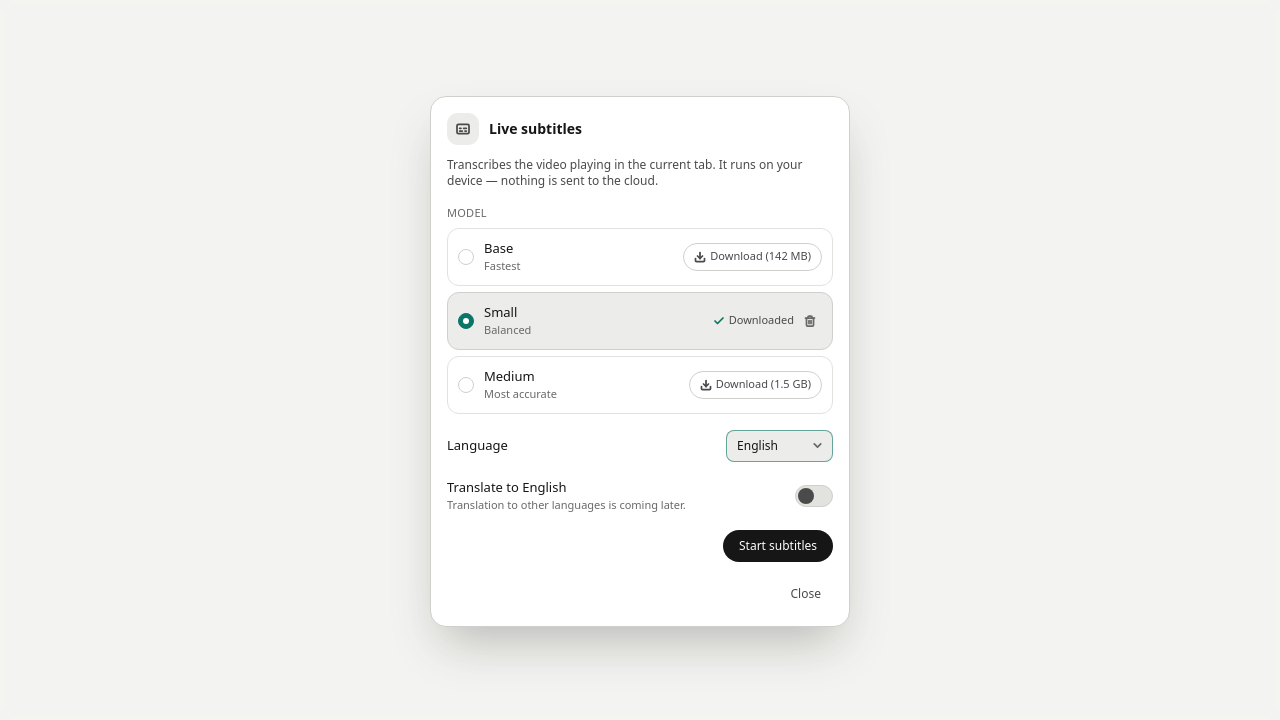
Scenario: Subtitles dialog › keeps a failed start visible and allows retry
Expected: the text "Small" is shown, 484,302 -> 517,320
Click the button "Start subtitles" at (778, 546), box 723,530 -> 833,562
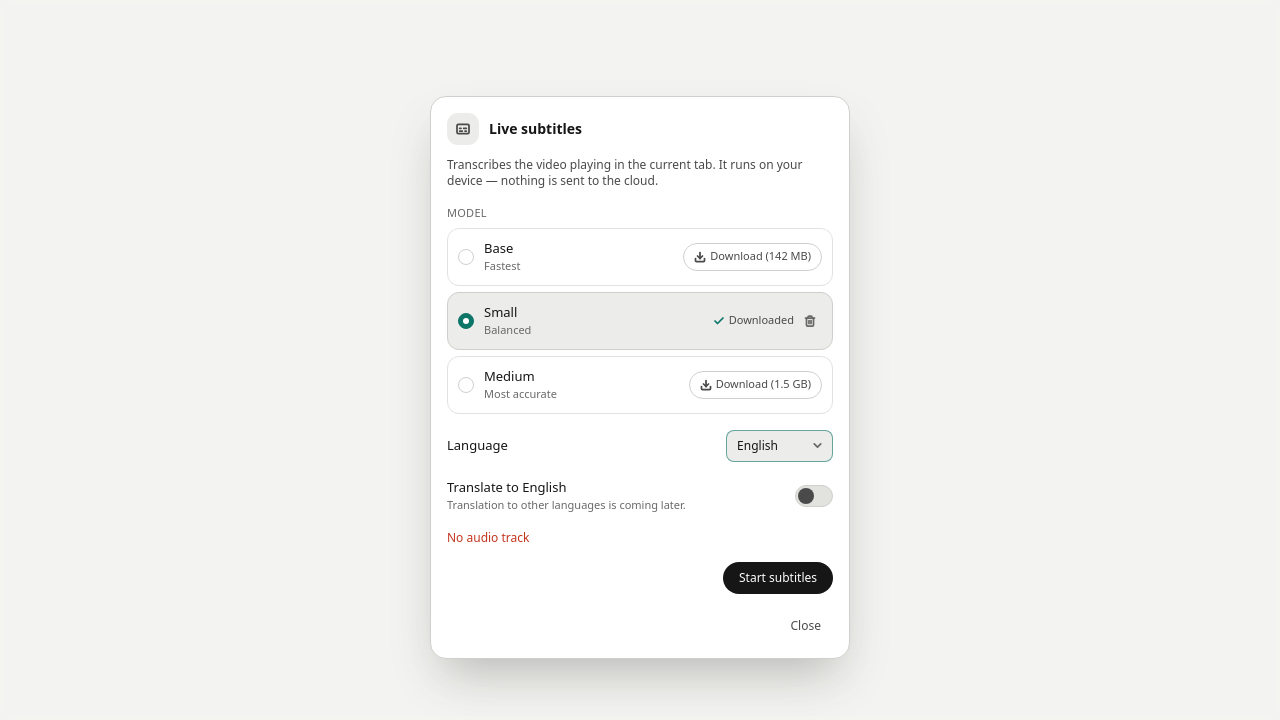
Expected: the dialog is shown, 430,96 -> 850,658
Now the message reads "No audio track", box 447,528 -> 530,546
